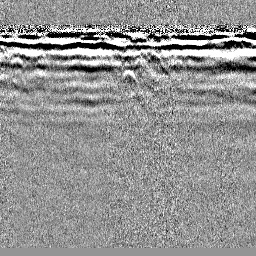cavity: (119, 69, 138, 86)
